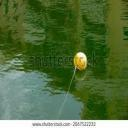yellow: (73, 52, 88, 71)
